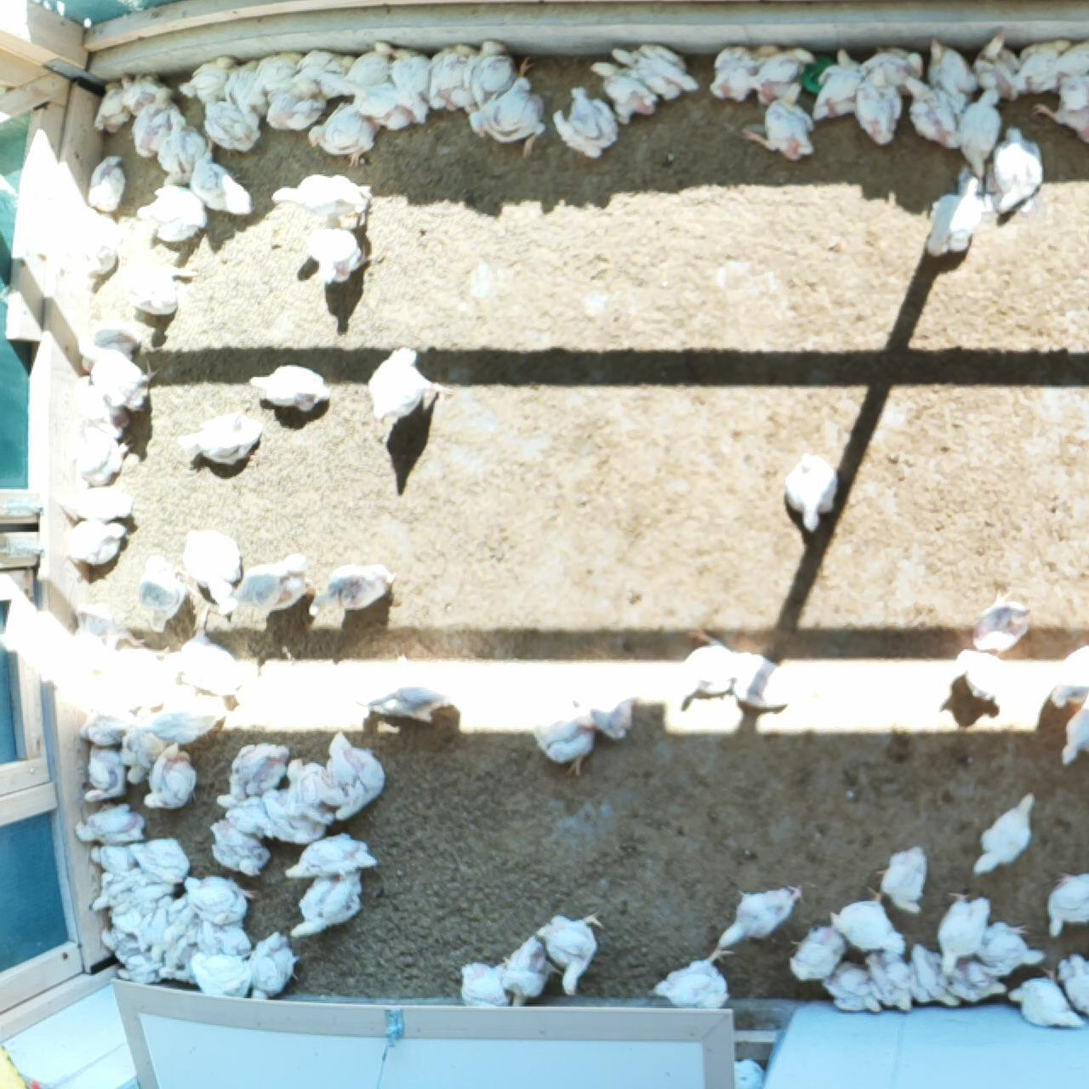chicken: (467, 53, 562, 159), (362, 343, 455, 447), (666, 616, 745, 716), (532, 905, 614, 1000), (742, 73, 822, 163), (718, 879, 814, 953), (986, 110, 1051, 219), (72, 338, 162, 416), (351, 663, 462, 726), (546, 76, 623, 163), (924, 167, 993, 261), (264, 172, 376, 229), (298, 562, 400, 624), (321, 724, 386, 821), (228, 549, 312, 624), (180, 522, 244, 616), (213, 739, 291, 816), (520, 704, 600, 779), (184, 138, 256, 221), (972, 793, 1041, 879), (177, 406, 268, 470), (610, 33, 700, 97), (55, 412, 135, 484), (826, 886, 908, 956), (307, 97, 382, 172), (279, 830, 377, 887), (119, 251, 200, 319), (176, 620, 244, 700), (292, 869, 367, 941), (242, 356, 331, 416), (900, 70, 963, 154), (778, 449, 840, 533), (566, 681, 646, 746), (456, 38, 517, 122), (779, 916, 846, 992), (347, 74, 433, 133), (725, 646, 794, 718), (936, 877, 988, 972), (648, 946, 733, 1004), (958, 79, 1007, 179), (205, 812, 278, 879), (296, 222, 371, 287), (588, 52, 659, 119), (947, 645, 1013, 717), (969, 29, 1028, 109), (155, 114, 217, 189), (853, 66, 907, 152), (129, 181, 207, 240), (131, 549, 182, 639), (903, 937, 961, 1016), (63, 376, 132, 442), (52, 516, 129, 575), (974, 584, 1039, 653), (880, 837, 935, 918), (198, 97, 267, 161), (1037, 857, 1089, 941), (180, 872, 258, 928), (811, 42, 864, 123), (1005, 977, 1089, 1028), (940, 950, 1011, 1010), (1013, 34, 1079, 96), (81, 862, 155, 917), (968, 912, 1038, 970), (247, 925, 300, 1001), (858, 950, 918, 1017), (505, 926, 552, 1011), (426, 38, 477, 116), (708, 39, 767, 106), (139, 741, 193, 814), (125, 830, 191, 889), (68, 685, 135, 742), (74, 736, 132, 801), (65, 797, 145, 844), (1029, 84, 1089, 146), (821, 960, 884, 1019), (265, 74, 326, 134), (222, 52, 266, 135), (292, 40, 358, 95), (388, 43, 440, 112), (259, 785, 323, 841), (1042, 639, 1089, 714), (756, 38, 820, 93), (133, 895, 184, 964), (48, 481, 140, 518), (450, 954, 507, 1009), (131, 81, 171, 159), (288, 751, 332, 821), (853, 40, 929, 80), (64, 217, 116, 275), (189, 946, 249, 996), (342, 34, 397, 88), (1056, 685, 1089, 773), (178, 53, 235, 103), (85, 149, 128, 214), (78, 315, 142, 358), (926, 35, 971, 91), (117, 880, 185, 915), (89, 81, 132, 134), (159, 930, 202, 983), (1055, 950, 1089, 1017), (120, 67, 174, 109), (194, 919, 251, 957), (220, 794, 269, 838), (255, 45, 306, 84), (95, 925, 151, 958), (727, 1052, 774, 1089), (1056, 33, 1089, 83), (84, 843, 137, 871), (112, 959, 164, 984)
